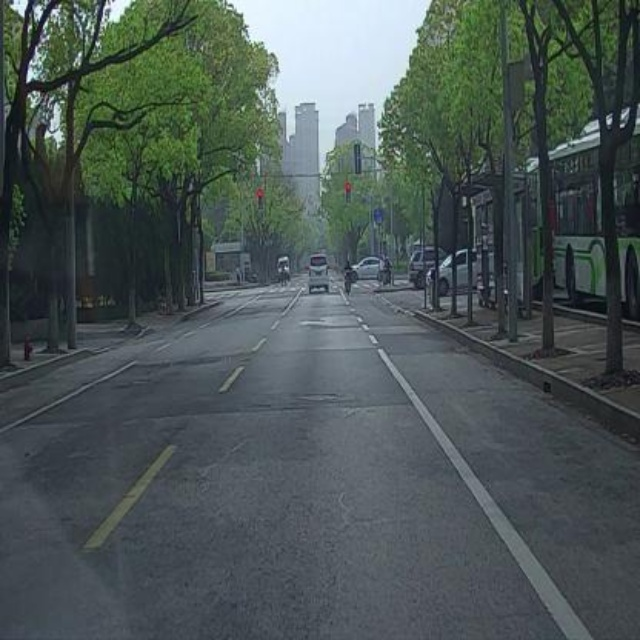Đèn đỏ: (257, 187, 264, 213), (345, 181, 352, 207)
